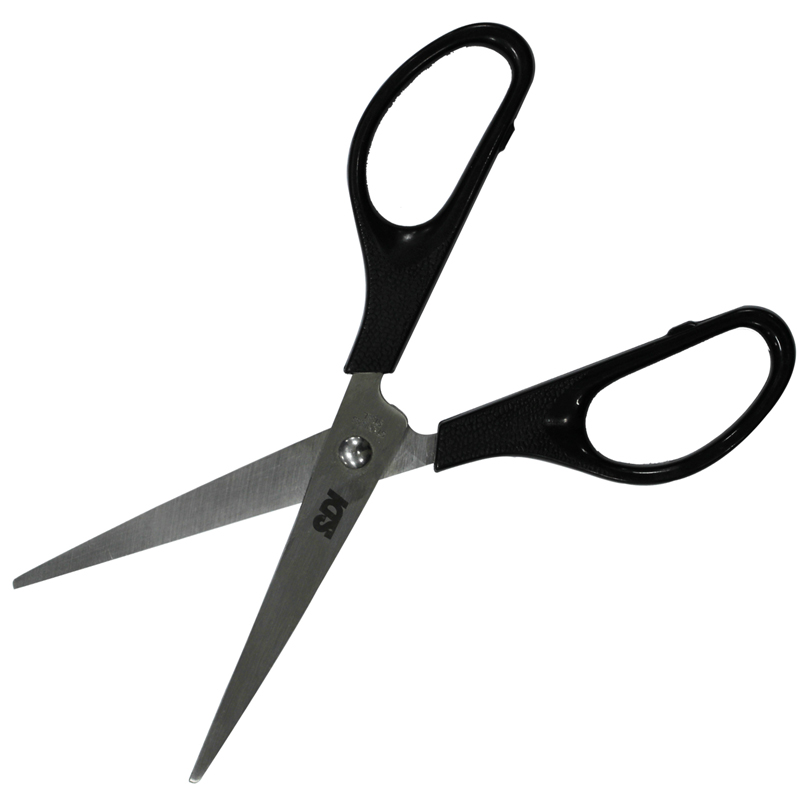scissors: (6, 15, 795, 789)
